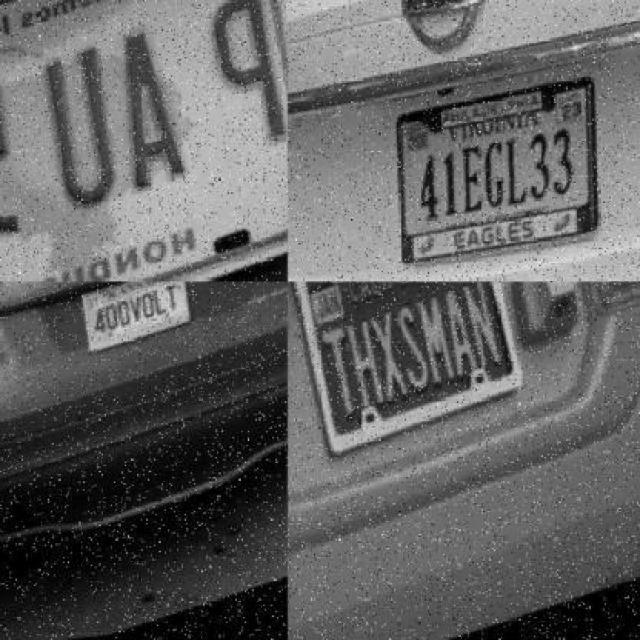licenseplate: (288, 283, 548, 466), (384, 83, 621, 268), (79, 269, 204, 360)
